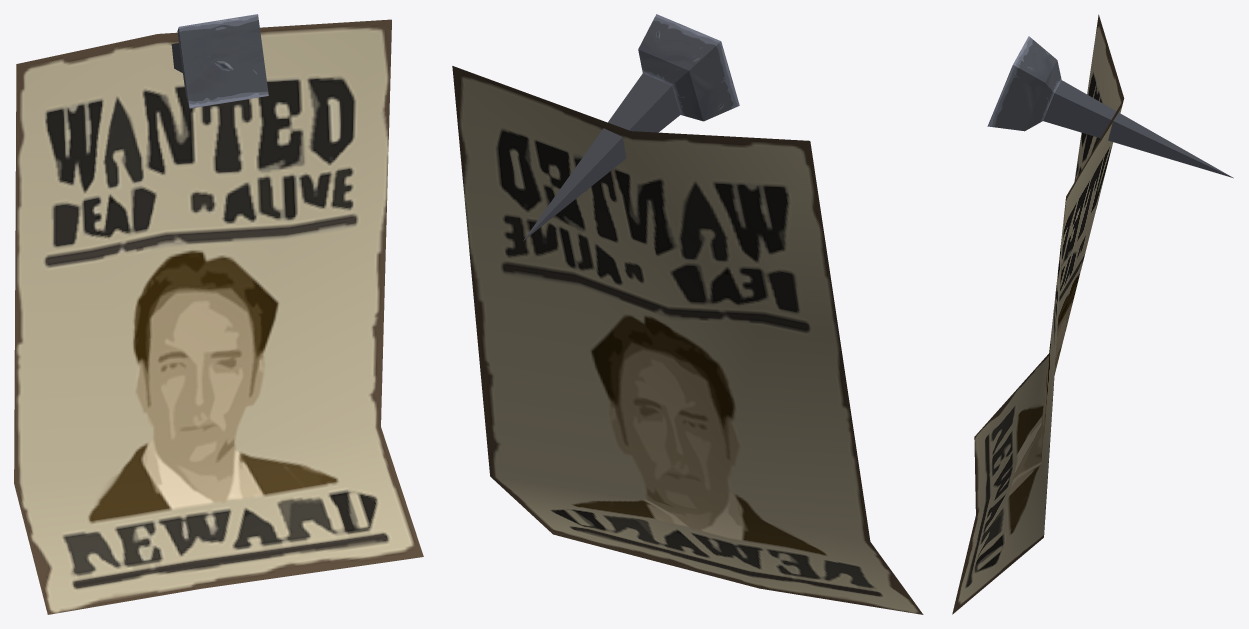
The model's file is poster02.glb.
3 views of the same model, side by side, from view 1: azimuth 30°, elevation 25°; view 2: azimuth 150°, elevation 25°; view 3: azimuth 270°, elevation 25° (orthographic). The views are drawn at different scales.
Parts seen in each view (by area): view 1: SM_PROP_poster_02; view 2: SM_PROP_poster_02; view 3: SM_PROP_poster_02.
Boxes of the visible parts, <box> form: SM_PROP_poster_02: <box>14,14,423,614</box>; SM_PROP_poster_02: <box>452,14,923,614</box>; SM_PROP_poster_02: <box>952,14,1233,614</box>.
Bounding box in the file's own units: 0.401 × 0.5331 × 0.2773.
2 materials, 2 textured.
